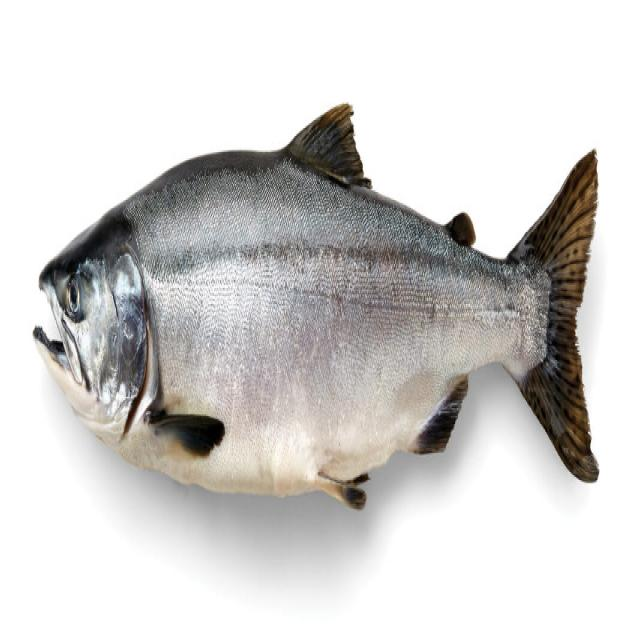salmon: (20, 73, 615, 556)
